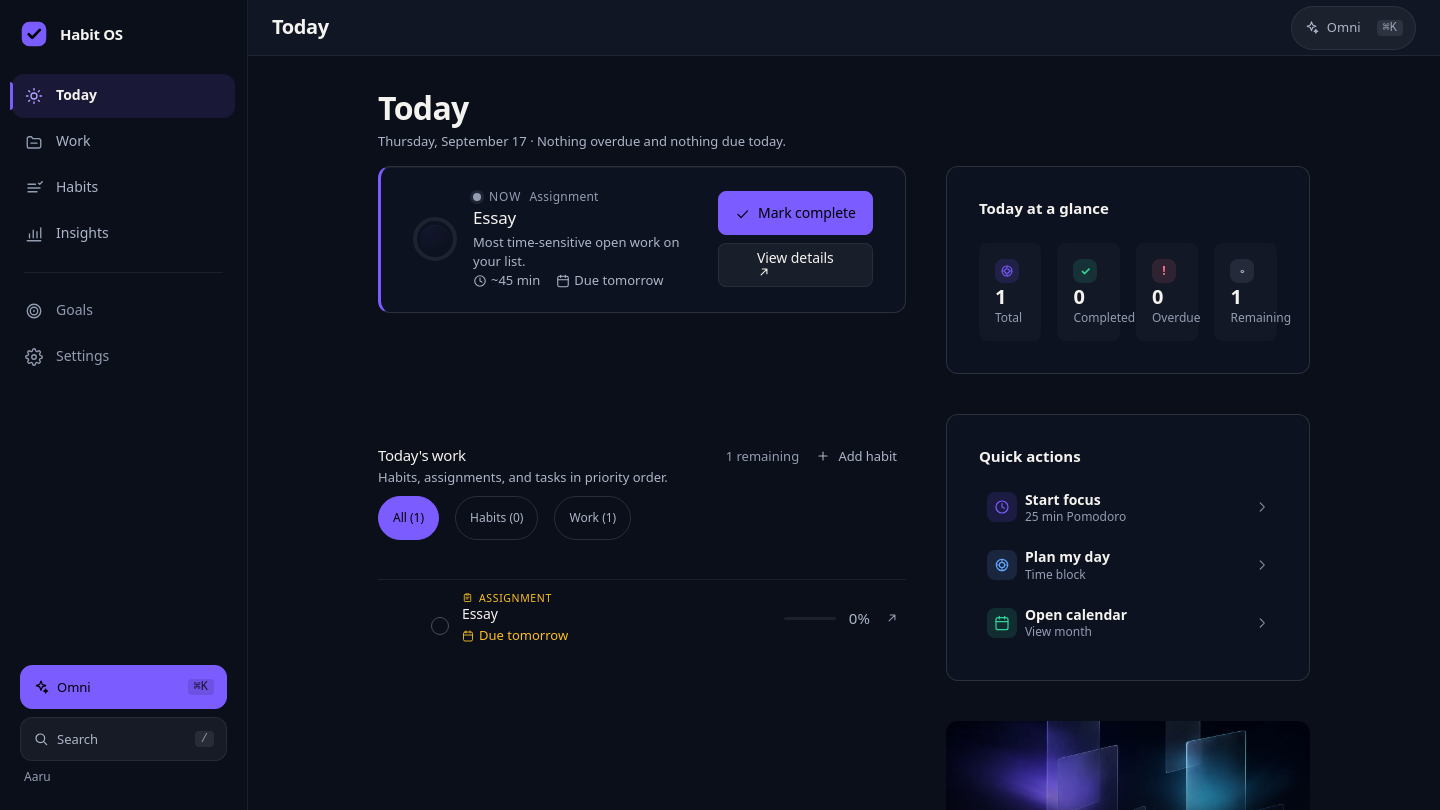
Scenario: focus session record — the source of actuals › cannot complete or skip before the timer has started
What coordinates should you click on to do the following:
click the button with aria-label "open focus mode"
I would click on:
 (1128, 508)
Its box is [979,483,1277,532].
(page scrolled)
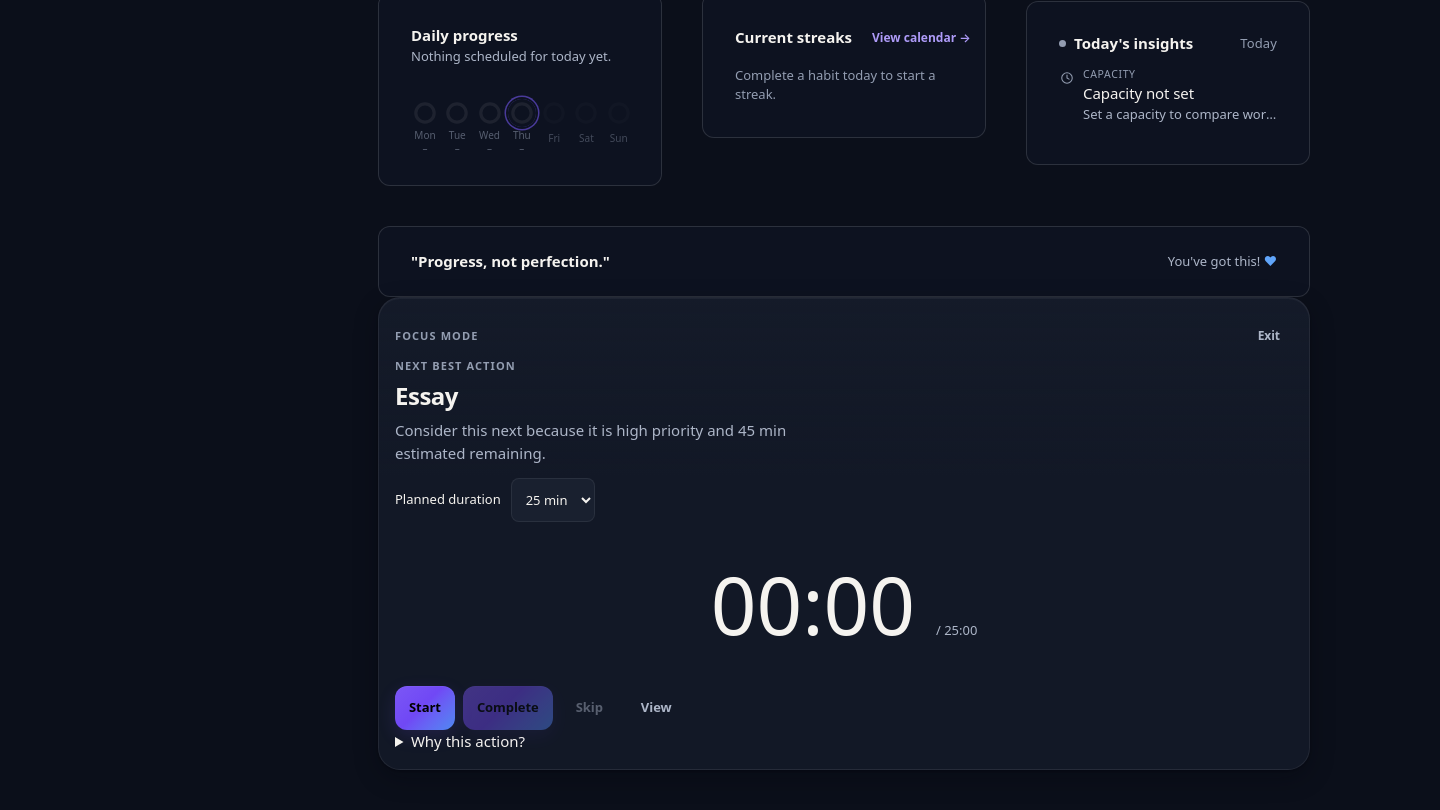
Result: the element with class "focus-timer" is shown at [711,549,977,658]
Result: the button "Complete" is disabled at [463,686,553,730]
Result: the button "Skip" is disabled at [561,686,618,730]
